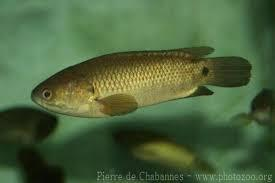Climbing Perch: (30, 44, 254, 120)
